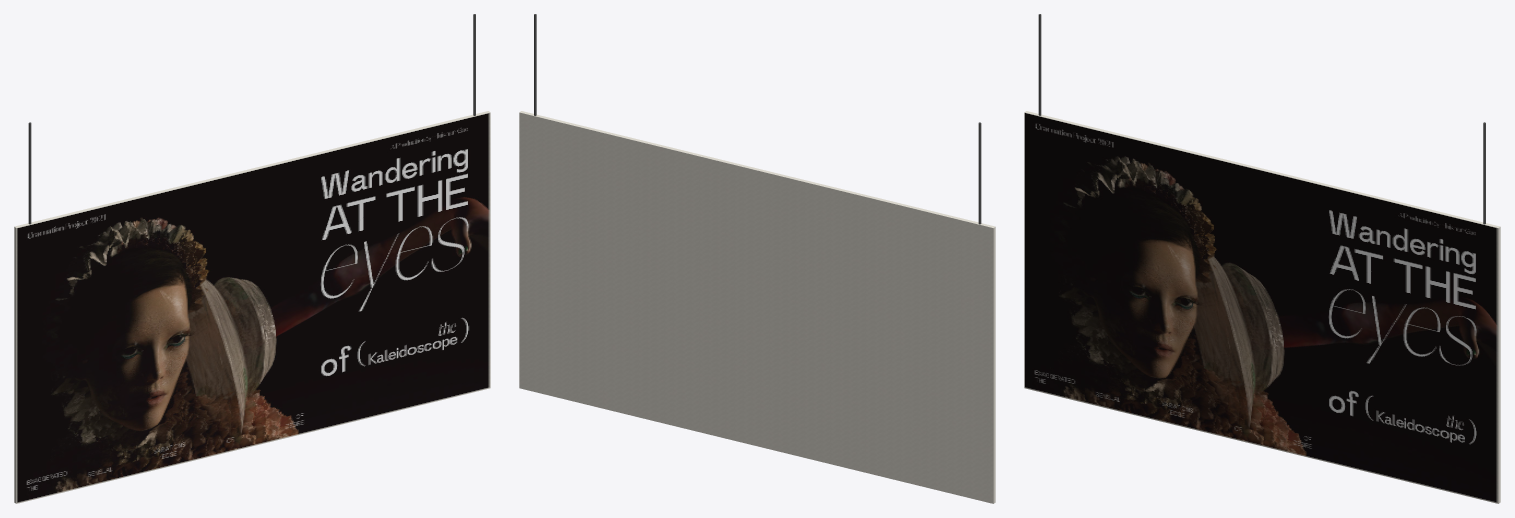
The model's file is hang_poster.fbx.
3 renders of one model, left to right at view 1: azimuth 30°, elevation 25°; view 2: azimuth 150°, elevation 25°; view 3: azimuth 330°, elevation 25°, orthographic.
Parts seen in each view (by area): view 1: pCube1; view 2: pCube1; view 3: pCube1.
Boxes of the visible parts, x1,y1,x2,y2 form: pCube1: (14, 111, 490, 503); pCube1: (519, 111, 995, 503); pCube1: (1024, 111, 1500, 503).
Bounding box in the file's own units: 17.1 × 12.97 × 0.1358.
1 material, 1 textured.
